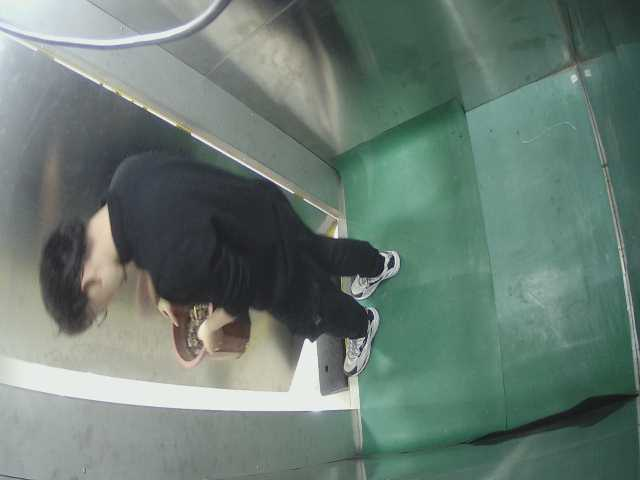flowerpot: (115, 292, 259, 374)
person: (36, 145, 407, 369)
